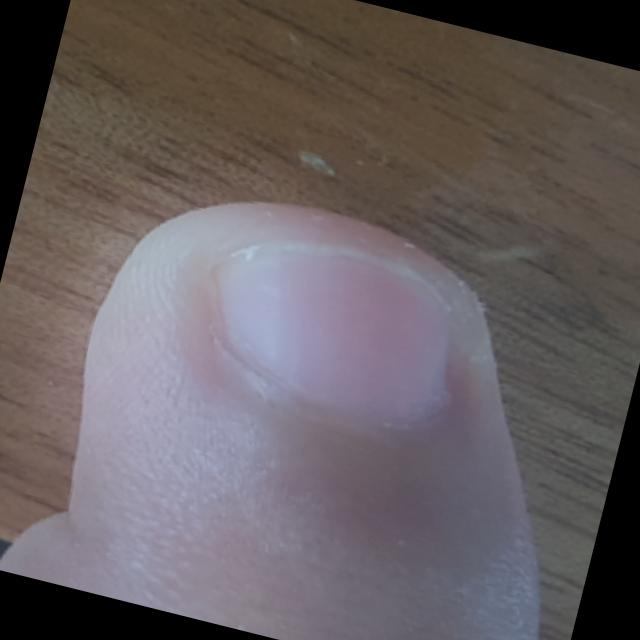Nail: (216, 239, 448, 418)
